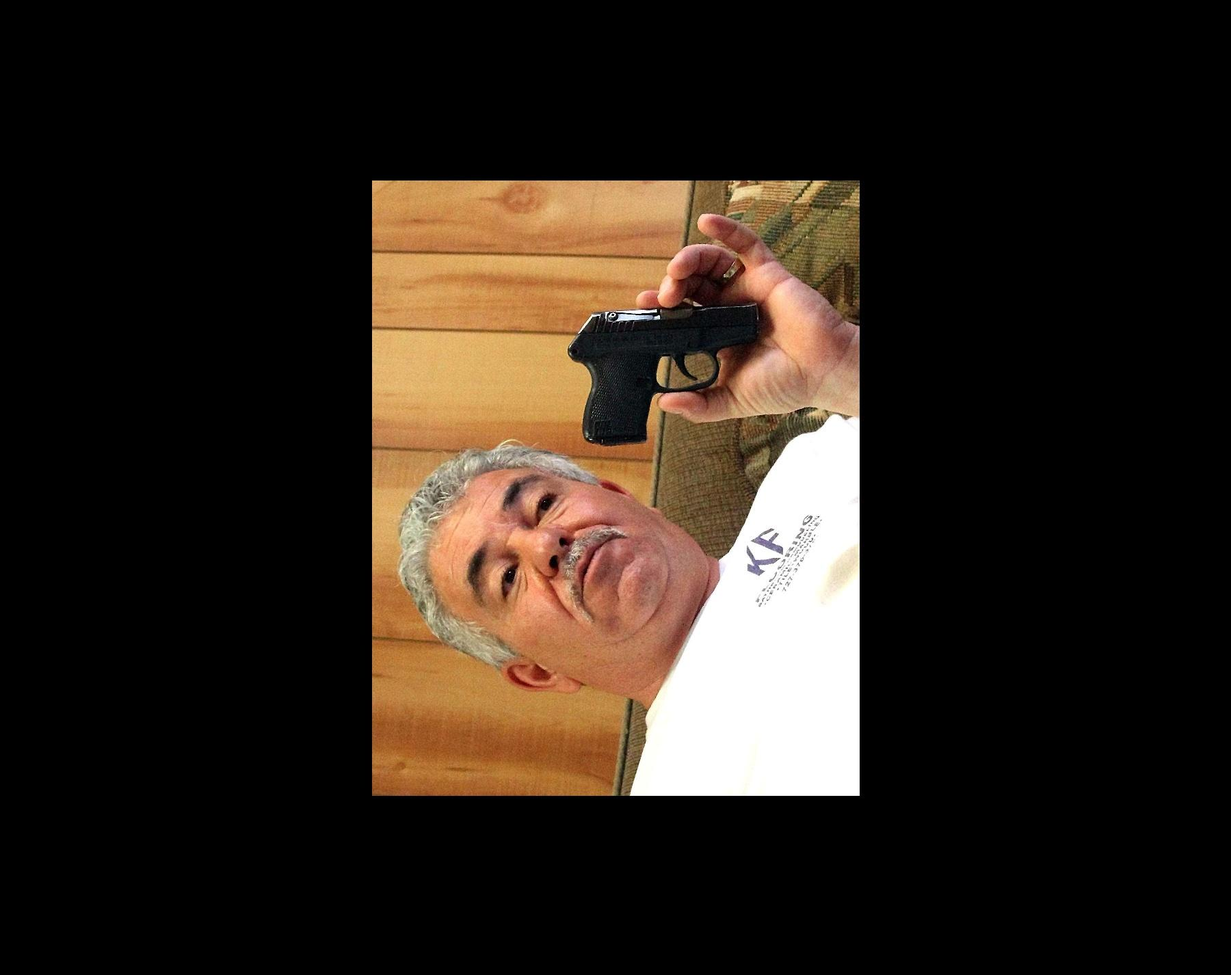weapon: (568, 290, 771, 447)
